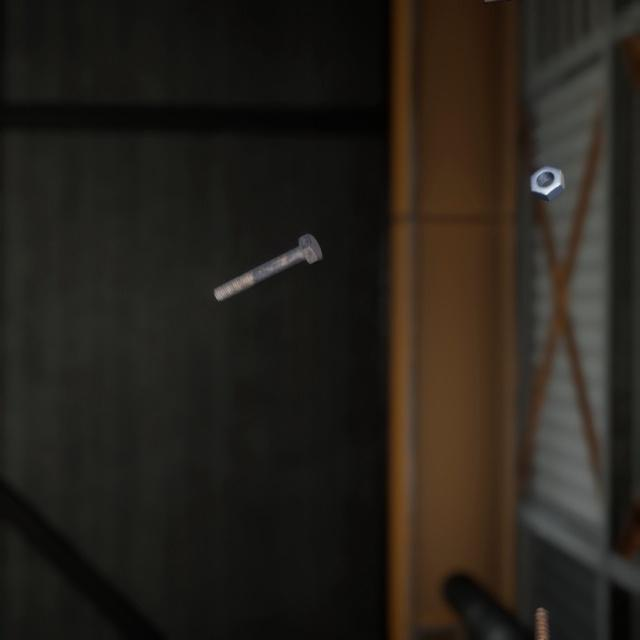bolt: (209, 212, 326, 289), (524, 579, 562, 640)
nut: (525, 147, 569, 191)
